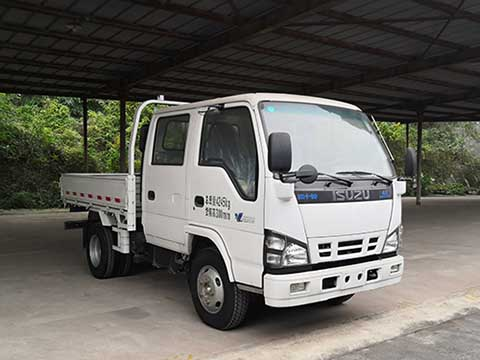smalltruck: (62, 70, 413, 328)
